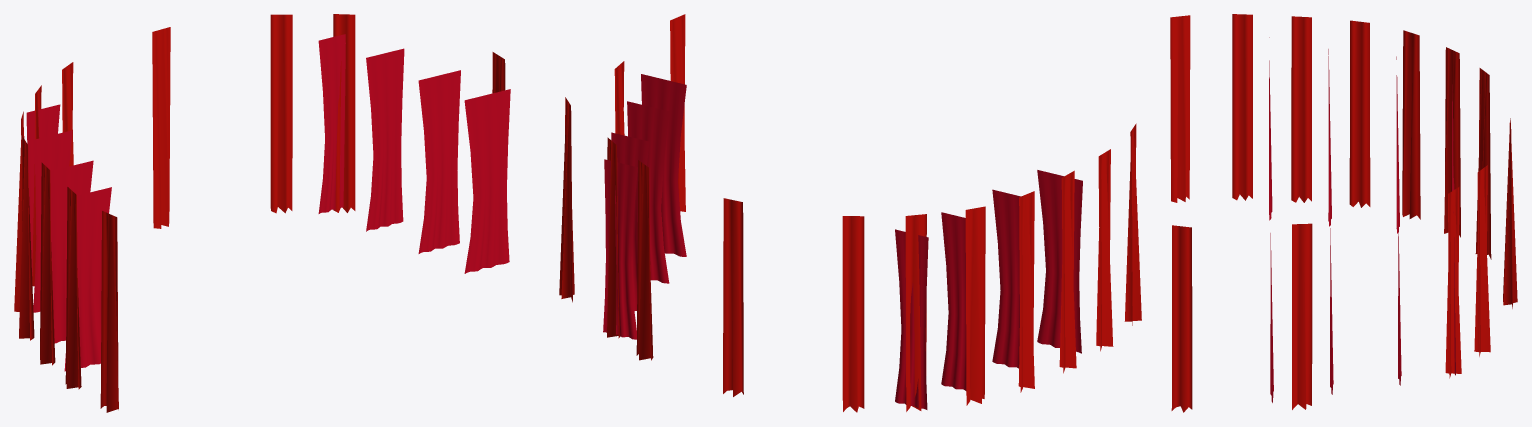
File: Curtains_Back.fbx
The picture shows the model from 3 angles, left to right: view 1: azimuth 30°, elevation 25°; view 2: azimuth 150°, elevation 25°; view 3: azimuth 270°, elevation 25°; orthographic projection. The views are drawn at different scales.
Parts seen in each view (by area): view 1: Curtains_Back; view 2: Curtains_Back; view 3: Curtains_Back.
Part boxes in pixels (left/top/right/bottom): Curtains_Back: left=14, top=14, right=574, bottom=412; Curtains_Back: left=603, top=14, right=1141, bottom=412; Curtains_Back: left=1170, top=14, right=1517, bottom=412.
Bounding box in the file's own units: 5172 × 2043 × 3472.
